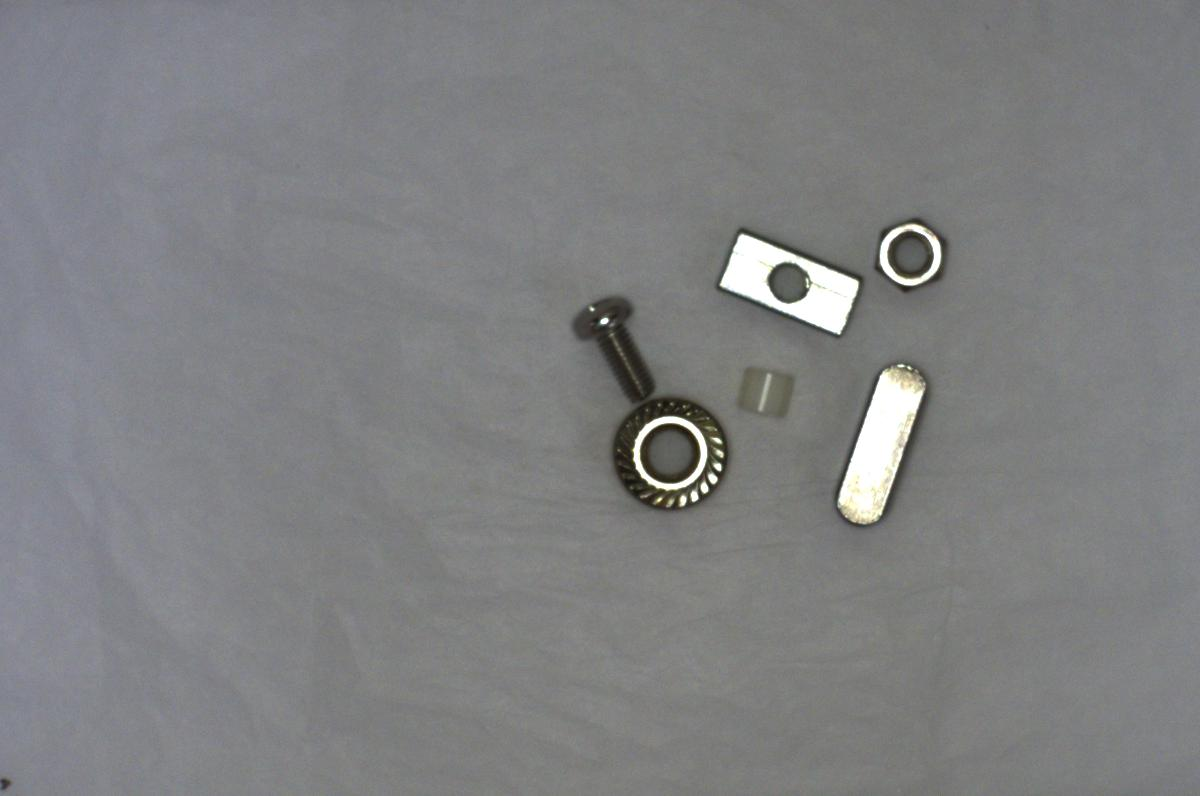Flange nut: (605, 389, 738, 512)
Hexagon nut: (865, 200, 953, 301)
Keybar: (828, 356, 942, 532)
Plastic cushion pillar: (728, 356, 805, 430)
Rectangular nut: (706, 230, 861, 339)
Round head screw: (557, 282, 658, 408)
